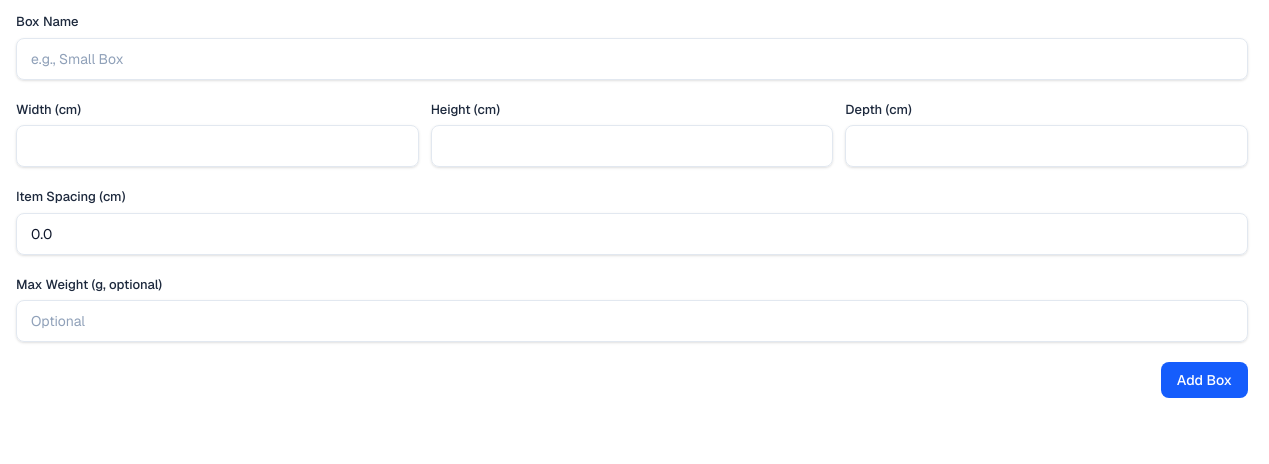
Test: BoxForm › shows client-side field validation errors
This screenshot has width=1269, height=464.
Click the button "Add Box": point(1204, 380) x1=1161 y1=362 x2=1248 y2=398
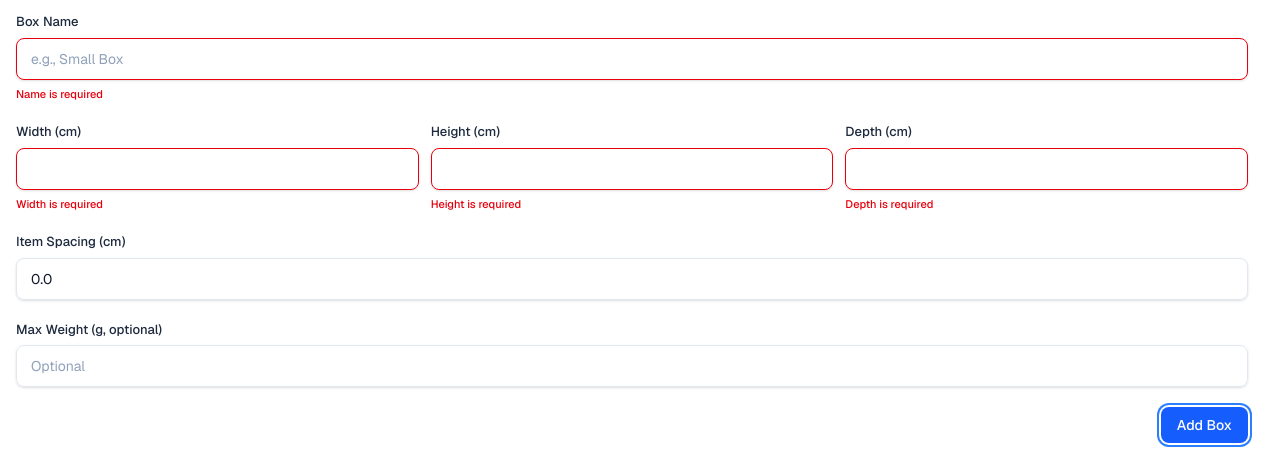
Expected: the text "Name is required" is shown, x1=16 y1=86 x2=103 y2=100
Expected: the text "Width is required" is shown, x1=16 y1=196 x2=103 y2=210
Expected: the text "Height is required" is shown, x1=431 y1=196 x2=521 y2=210
